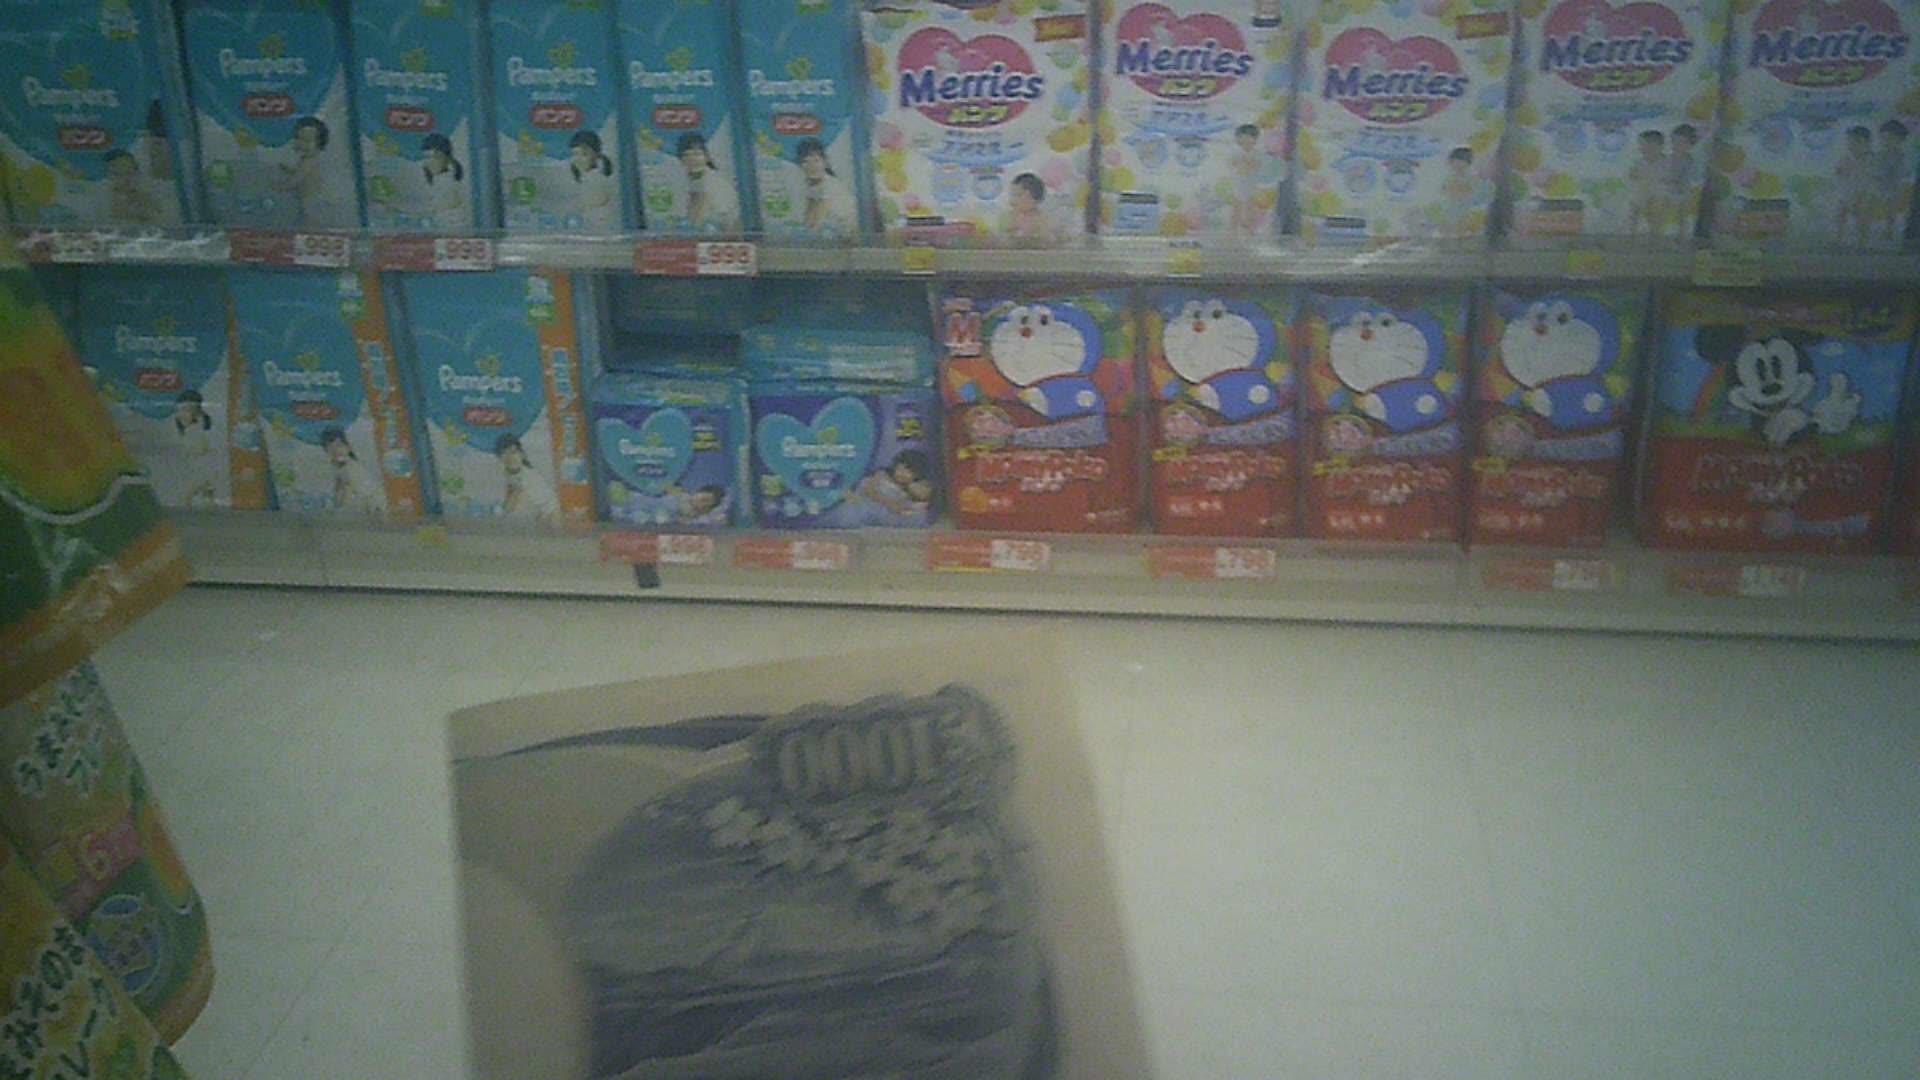1,000 Yen: (450, 676, 1114, 1067)
